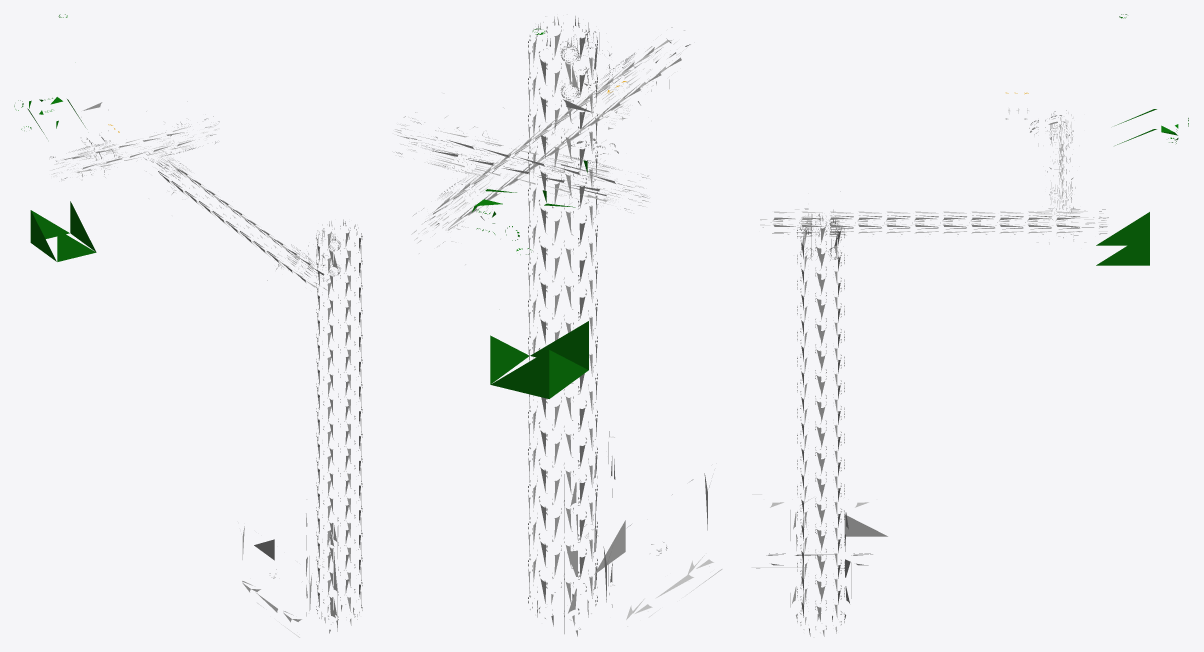
The picture shows the model from 3 angles, left to right: view 1: azimuth 30°, elevation 25°; view 2: azimuth 150°, elevation 25°; view 3: azimuth 270°, elevation 25°; orthographic projection. The views are drawn at different scales.
Parts seen in each view (by area): view 1: F19721000063101014124_001_zb_ub_spanner_24_fa (×2); view 2: F19721000063101014124_001_zb_ub_spanner_24_fa (×2); view 3: F19721000063101014124_001_zb_ub_spanner_24_fa (×2).
Part boxes in pixels (x1,y1,x2,y2): F19721000063101014124_001_zb_ub_spanner_24_fa (×2): [14, 14, 362, 637]; F19721000063101014124_001_zb_ub_spanner_24_fa (×2): [395, 14, 722, 636]; F19721000063101014124_001_zb_ub_spanner_24_fa (×2): [751, 14, 1188, 637].
Bounding box in the file's own units: 240 × 465 × 642.
